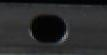holes: (28, 13, 69, 46)
